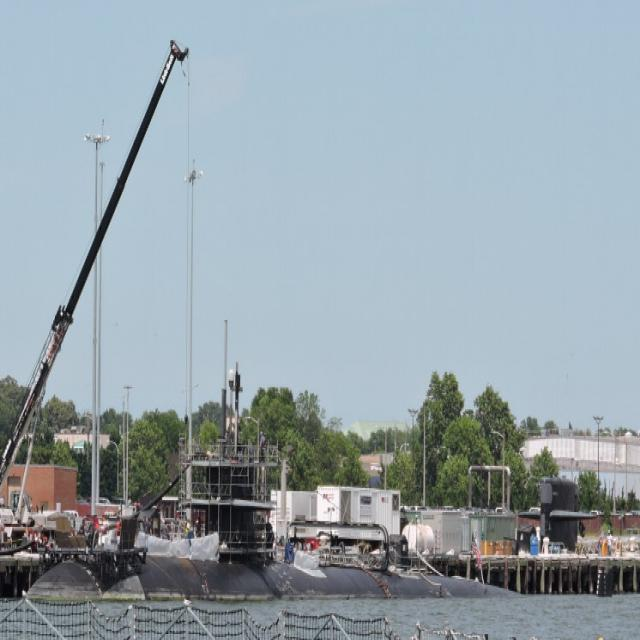submarine: (29, 447, 519, 601)
